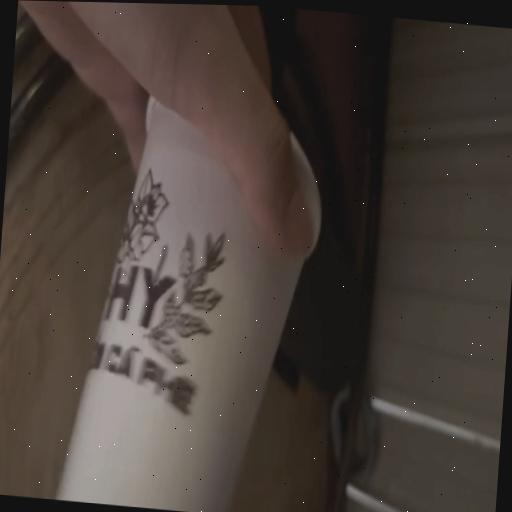Ly_giay: (57, 100, 301, 512)
